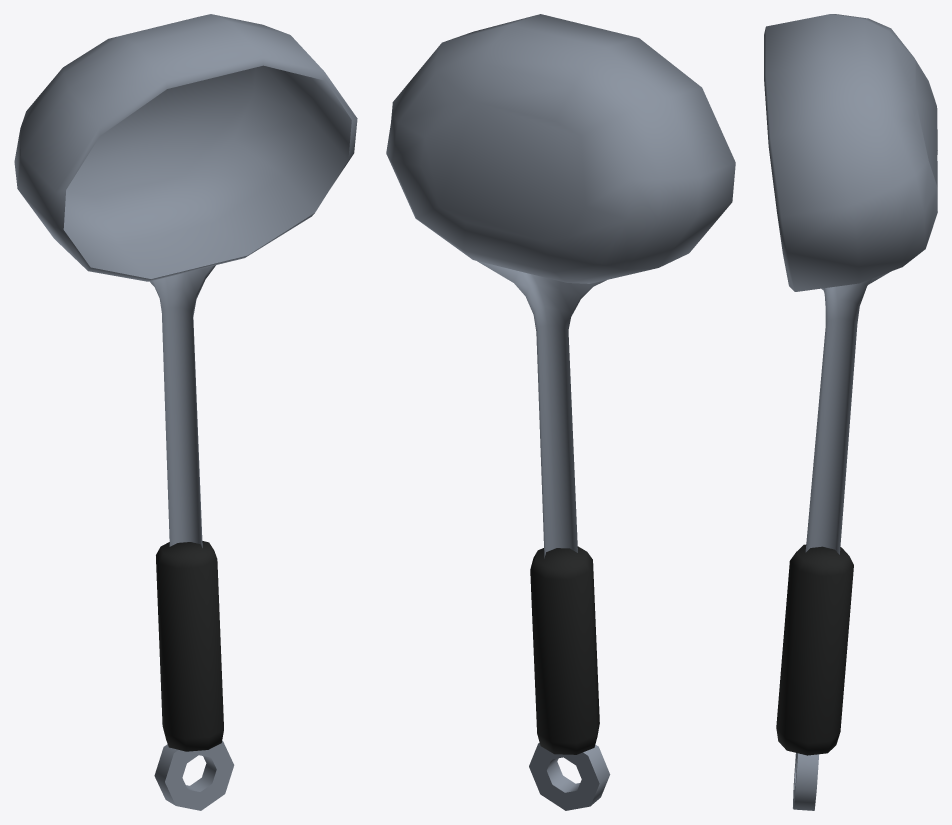
Rendered from cooking_assets_laddle_m4obyfc7tv.glb.
3 views of the same model, side by side, from view 1: azimuth 30°, elevation 25°; view 2: azimuth 150°, elevation 25°; view 3: azimuth 270°, elevation 25° (orthographic).
Parts seen in each view (by area): view 1: cutensils_laddle_Cylinder.030; view 2: cutensils_laddle_Cylinder.030; view 3: cutensils_laddle_Cylinder.030.
Part boxes in pixels (bbox=[...]): cutensils_laddle_Cylinder.030: bbox=[14, 14, 357, 810]; cutensils_laddle_Cylinder.030: bbox=[386, 14, 735, 810]; cutensils_laddle_Cylinder.030: bbox=[764, 14, 937, 810].
Bounding box in the file's own units: 3.06 × 7.38 × 1.5.
Materials: 1 (1 with a texture image).
